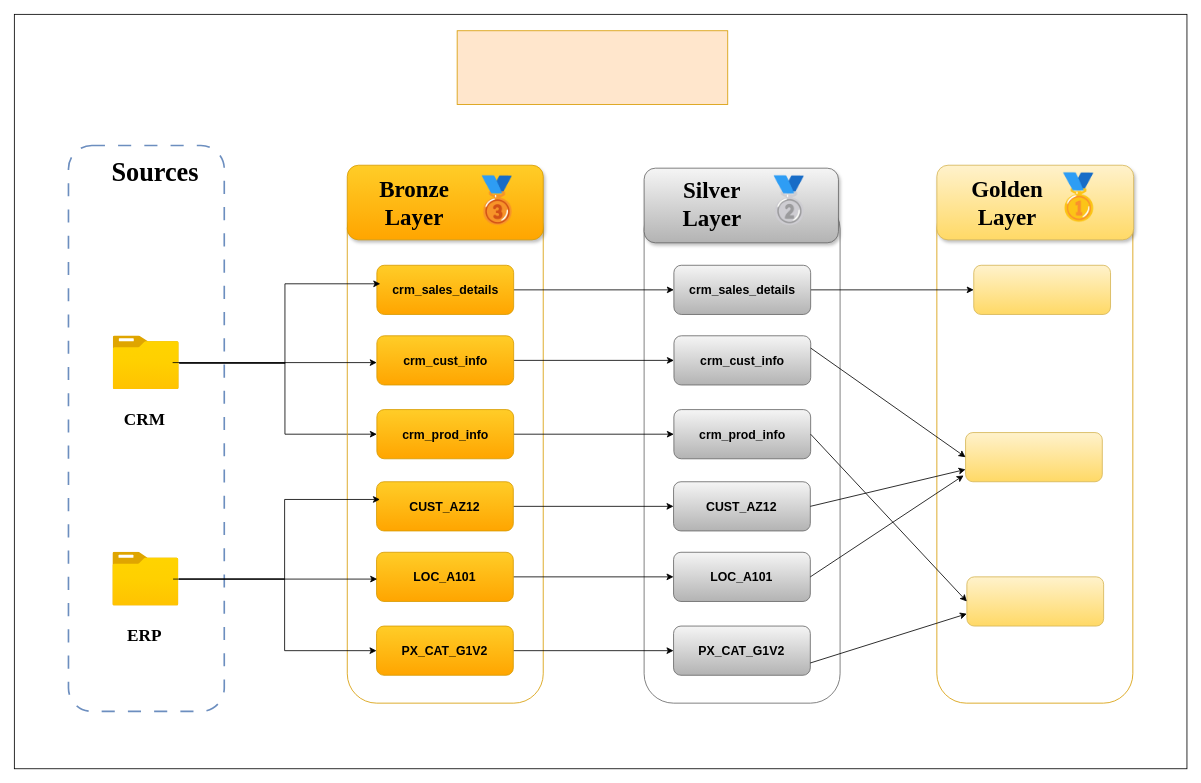
Some shapes in this 1201 by 783 pixel diagram are drawn without their labels. Here are the shapes that lost their labels. From the top down, the centre of each, then its label:
At [592,67]: "Data Flow".
At [1042,289]: "Fact_Table".
At [1033,457]: "Dim_Customer".
At [1035,601]: "Dim_Product".
